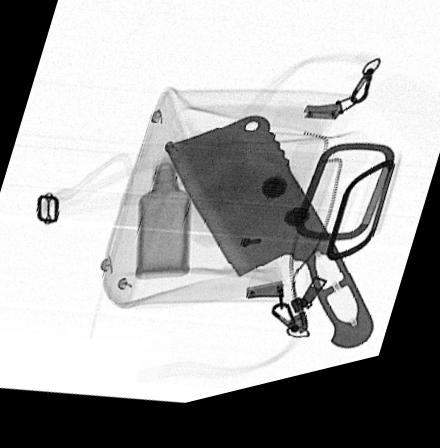Knife: (161, 126, 375, 367)
